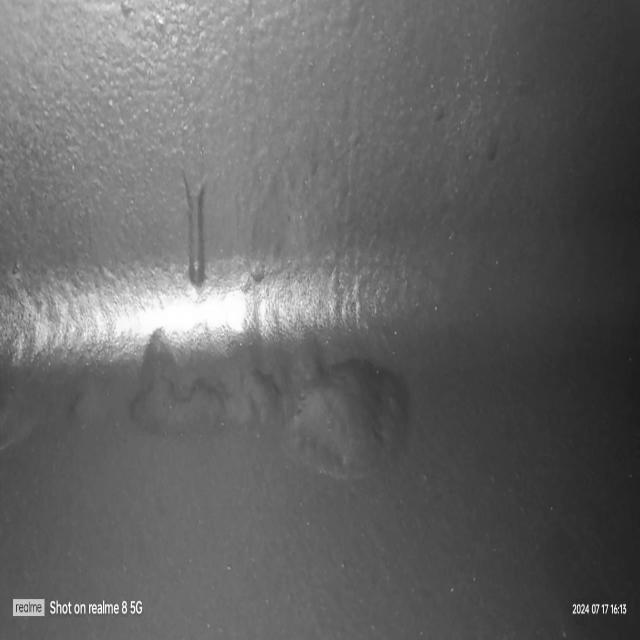paint drips: (177, 154, 218, 291)
